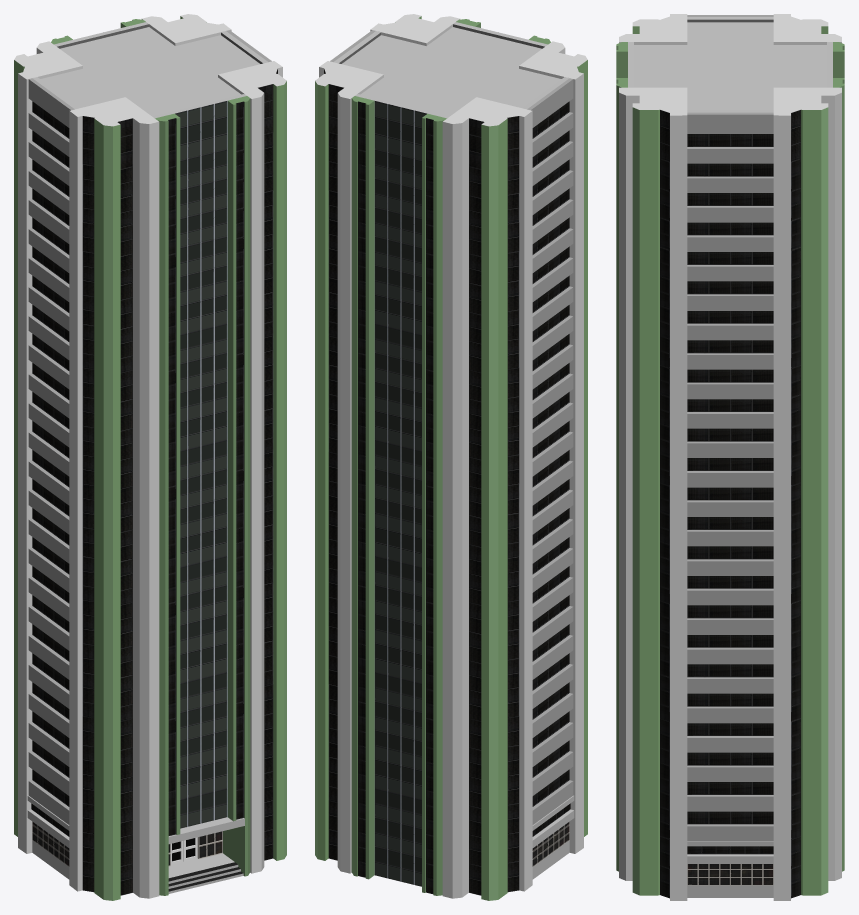
Rendered from Tower-03.fbx.
3 views of the same model, side by side, from view 1: azimuth 30°, elevation 25°; view 2: azimuth 150°, elevation 25°; view 3: azimuth 270°, elevation 25° (orthographic).
Visible parts, largest first — view 1: Tower-03; view 2: Tower-03; view 3: Tower-03.
Part boxes in pixels (<box>): Tower-03: <box>14,14,286,900</box>; Tower-03: <box>315,14,587,900</box>; Tower-03: <box>616,14,844,900</box>.
Size of what is drawn, in the model's own units: 22.2 by 80 by 21.05.
